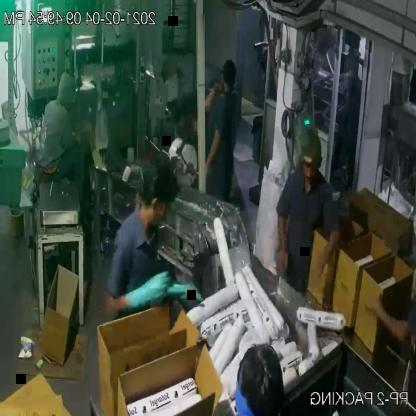glove: (118, 258, 173, 331), (164, 255, 212, 318)
no_glove: (361, 294, 414, 347), (309, 223, 346, 297), (268, 205, 294, 289), (203, 119, 226, 177)
